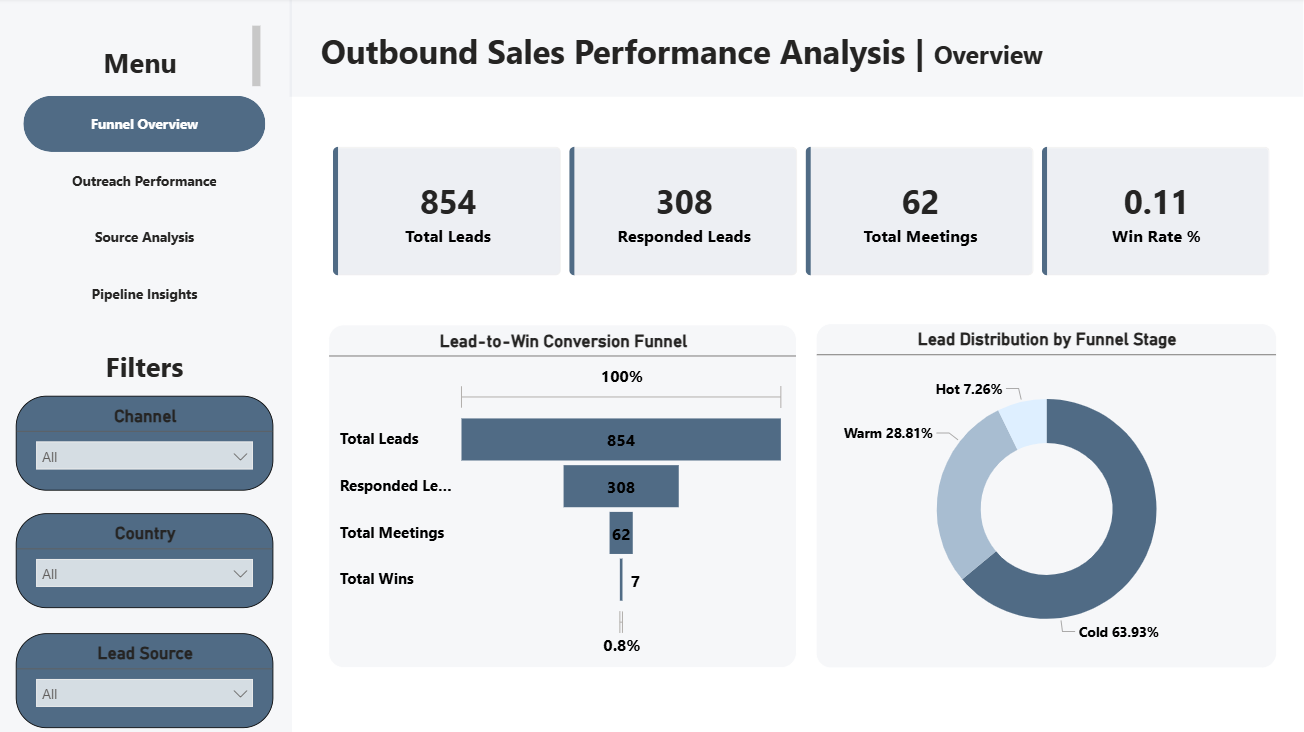

What the dashboard file says about the page in this screenshot:
{"tool":"powerbi","page":{"name":"Funnel Overview","canvas":[1280,720],"ordinal":0},"visuals":[{"type":"shape","box":[286.1,0,991.7,97.8],"z":0},{"type":"shape","box":[0,0,288.6,720.2],"z":1000},{"type":"funnel","title":"Lead-to-Win Conversion Funnel","fields":{"Y":["outbound_sales lead_funnel_status.Total Leads","outbound_sales lead_funnel_status.Responded Leads","outbound_sales lead_funnel_status.Total Meetings","outbound_sales lead_funnel_status.Total Wins"]},"box":[324.1,320.4,458.6,336.3],"z":2000},{"type":"cardVisual","fields":{"Data":["outbound_sales lead_funnel_status.Total Leads","outbound_sales lead_funnel_status.Responded Leads","outbound_sales lead_funnel_status.Total Meetings","outbound_sales lead_funnel_status.Win Rate %"]},"box":[311.8,129.6,952.6,160.2],"z":3000},{"type":"donutChart","title":"Lead Distribution by Funnel Stage","fields":{"Y":["outbound_sales lead_funnel_status.Total Leads"],"Category":["outbound_sales lead_funnel_status.final_stage"]},"box":[801,319.2,451.2,337.5],"z":4000},{"type":"slicer","title":"Country","fields":{"Values":["outbound_sales leads_master.country"]},"box":[18.3,505,251.9,92.9],"z":5000},{"type":"slicer","title":"Lead Source","fields":{"Values":["outbound_sales leads_master.lead_source"]},"box":[18.3,622.4,251.9,92.9],"z":6000},{"type":"slicer","title":"Channel","fields":{"Values":["outbound_sales outreach_activity.channel"]},"box":[18.3,390.1,251.9,92.9],"z":7000},{"type":"pageNavigator","box":[25.7,97.1,237.1,222.9],"z":8000},{"type":"textbox","box":[25.7,22.9,237.1,74.3],"z":9000},{"type":"textbox","box":[25.7,320,237.1,70],"z":10000},{"type":"textbox","box":[311.8,8.6,804.6,74.6],"z":11000}]}

Visuals, with their boxes in screenshot pixels (x1, y1, x2, y2), scaled from the page's 1280x720 canvas onto the 1304x732 screenshot:
shape: {"left": 291, "top": 0, "right": 1302, "bottom": 99}
shape: {"left": 0, "top": 0, "right": 294, "bottom": 731}
"Lead-to-Win Conversion Funnel" funnel: {"left": 330, "top": 326, "right": 797, "bottom": 668}
cardVisual - outbound_sales lead_funnel_status.Total Leads x outbound_sales lead_funnel_status.Responded Leads: {"left": 318, "top": 132, "right": 1288, "bottom": 295}
"Lead Distribution by Funnel Stage" donutChart: {"left": 816, "top": 325, "right": 1276, "bottom": 668}
"Country" slicer: {"left": 19, "top": 513, "right": 275, "bottom": 608}
"Lead Source" slicer: {"left": 19, "top": 633, "right": 275, "bottom": 727}
"Channel" slicer: {"left": 19, "top": 397, "right": 275, "bottom": 491}
pageNavigator: {"left": 26, "top": 99, "right": 268, "bottom": 325}
textbox: {"left": 26, "top": 23, "right": 268, "bottom": 99}
textbox: {"left": 26, "top": 325, "right": 268, "bottom": 396}
textbox: {"left": 318, "top": 9, "right": 1137, "bottom": 85}
